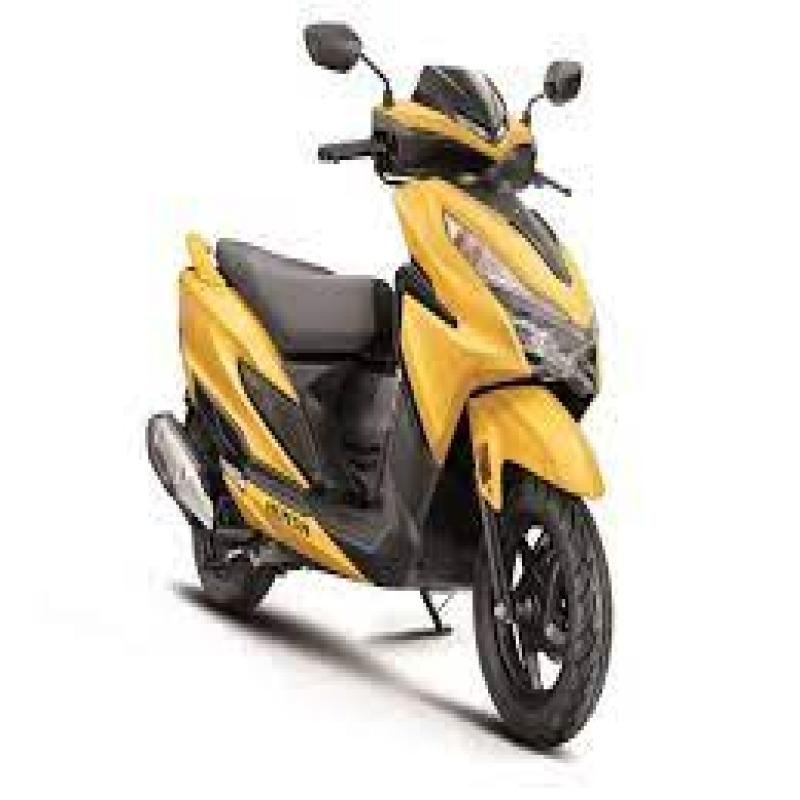bike: (131, 5, 696, 780)
